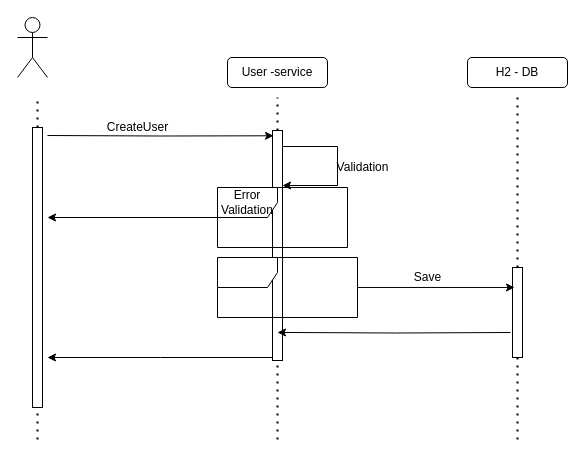
This 585x459 diagram has some shape labels left out. Here are the shapes that lost their labels. From the top down, the centre of each, then its label:
[32,47]: Actor
[287,287]: Validation OK
